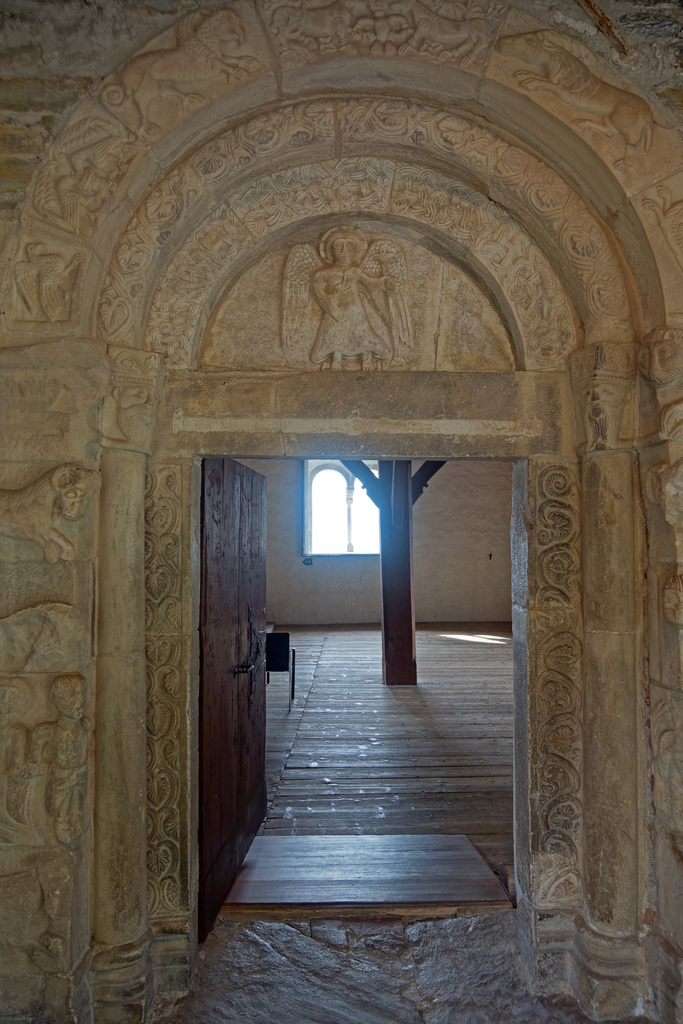door: (209, 475, 271, 858)
handle: (241, 623, 261, 676)
